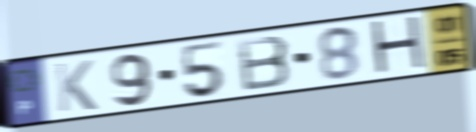5: (178, 39, 228, 102)
8: (316, 24, 361, 82)
9: (108, 51, 154, 108)
B: (234, 33, 293, 94)
H: (367, 13, 430, 79)
K: (52, 57, 99, 114)
